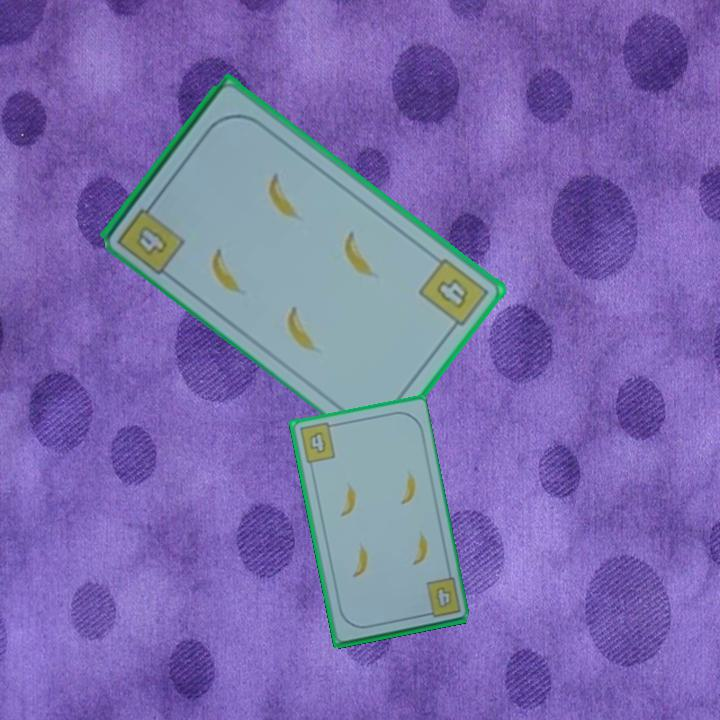4b: (415, 254, 492, 336), (113, 195, 188, 277), (419, 574, 463, 621), (296, 419, 339, 466)
